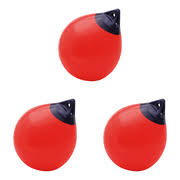buoy: (106, 104, 167, 172), (60, 15, 121, 81), (15, 105, 76, 171)
